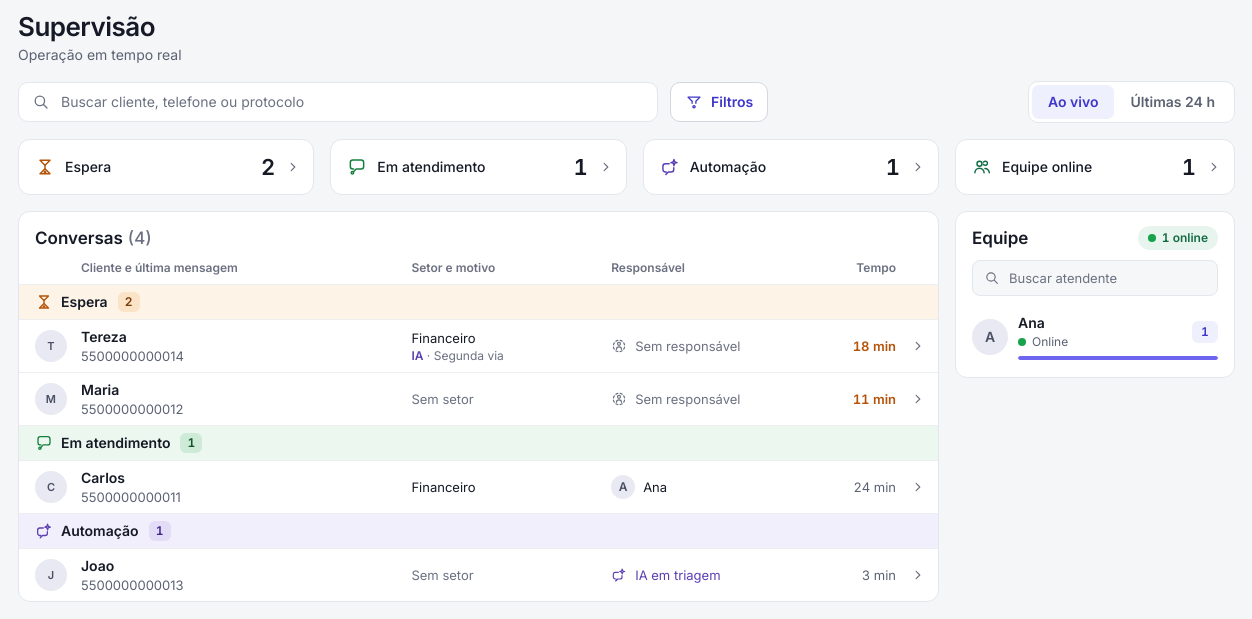
Test case: Supervisão: busca única › por nome, filtra a lista enquanto digita
Type "mar" into the search field labelled "Buscar cliente, telefone ou protocolo" at point(338, 102), box [18,82,658,122]
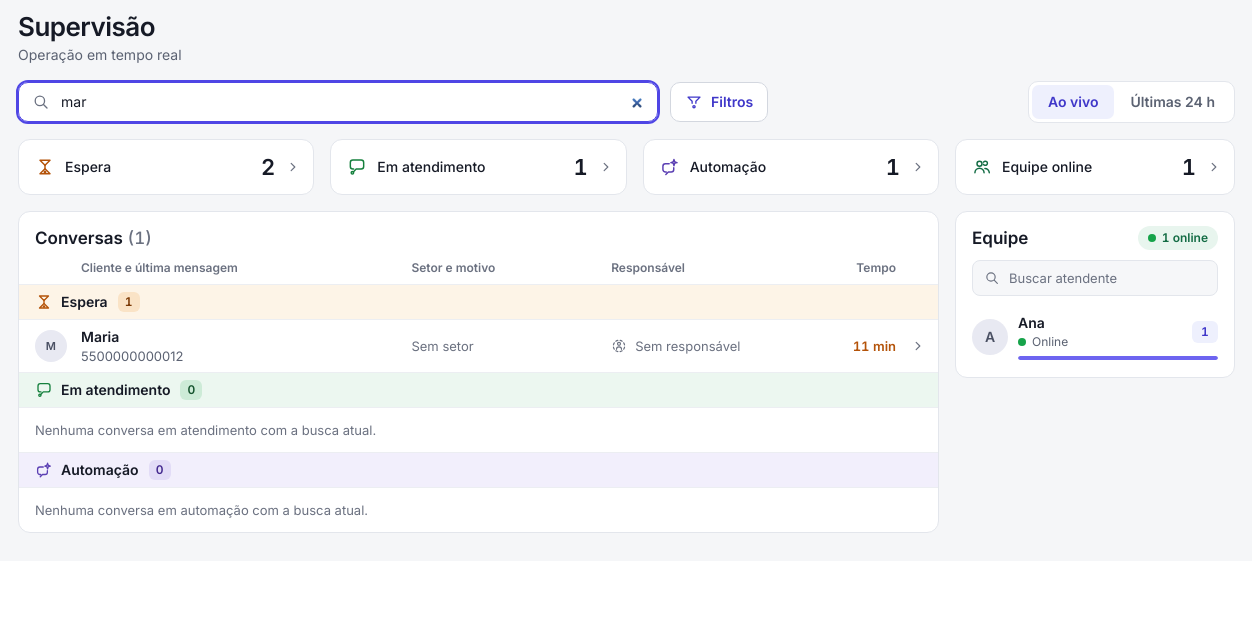
Expected: the button "M Maria 5500000000012 Sem setor Sem responsável 11 min" is shown, [19,320,938,372]
Now the button "Carlos" is gone
Now the button "Tereza" is gone
